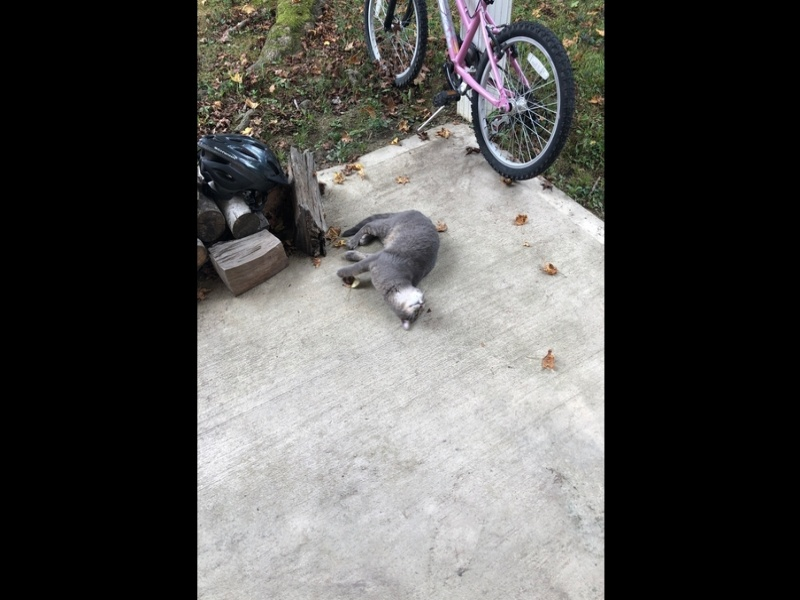cat: (335, 208, 448, 329)
